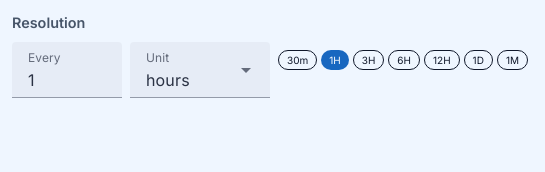
Test: DurationField › allows a fraction only for seconds
Replace the text in the number field labelled "Every" with "1.5" at (67, 70), box [12,42,122,98]
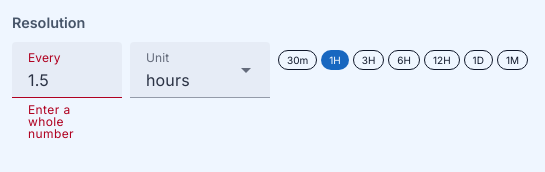
Result: the text "Enter a whole number" is shown at [28,102,74,140]
